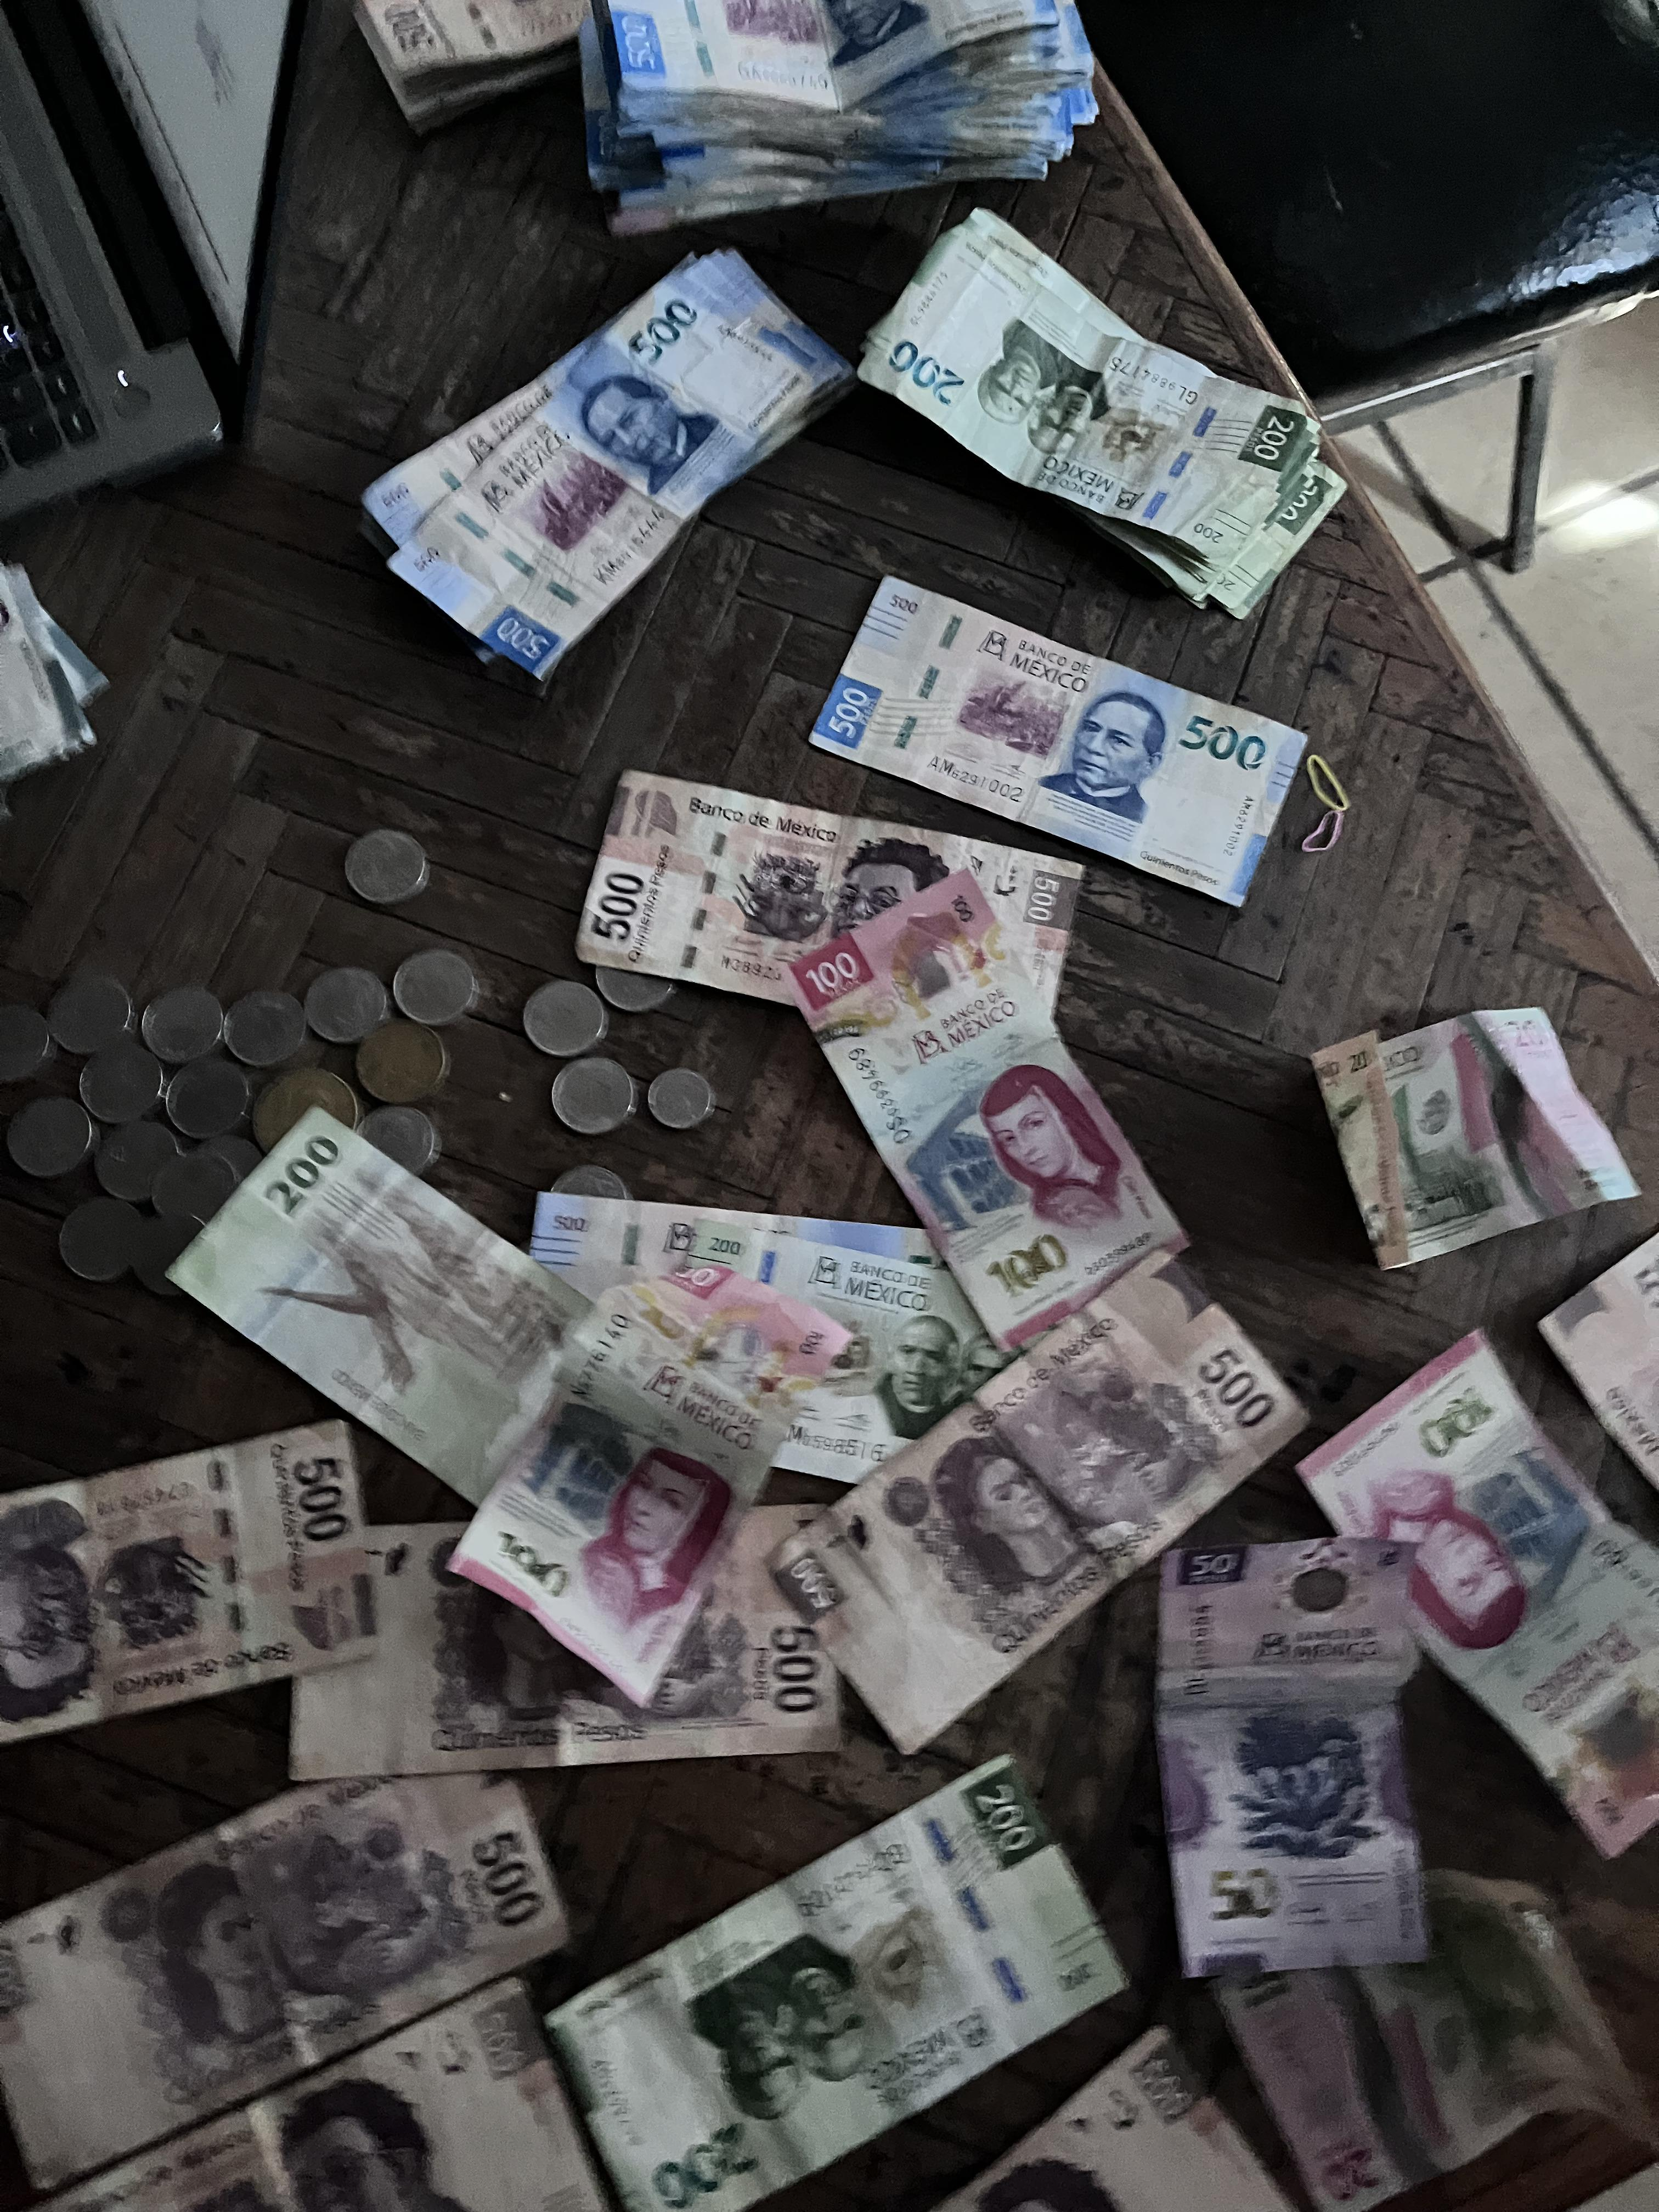100: (788, 867, 1213, 1350), (1300, 1320, 1659, 1865), (430, 1240, 868, 1684)
20: (1201, 1865, 1643, 2196), (1291, 984, 1645, 1261)
200: (538, 1747, 1180, 2212), (854, 206, 1361, 620), (143, 1094, 606, 1510), (647, 1183, 1040, 1498)
50: (1147, 1531, 1434, 1975)
500: (835, 1223, 1316, 1757), (3, 1750, 586, 2161), (563, 758, 1129, 1066), (288, 1507, 864, 1784), (0, 1998, 641, 2212), (0, 1413, 385, 1745), (889, 2010, 1335, 2212)
500 nuevo: (350, 249, 836, 716), (812, 564, 1380, 909), (596, 0, 1080, 206)
